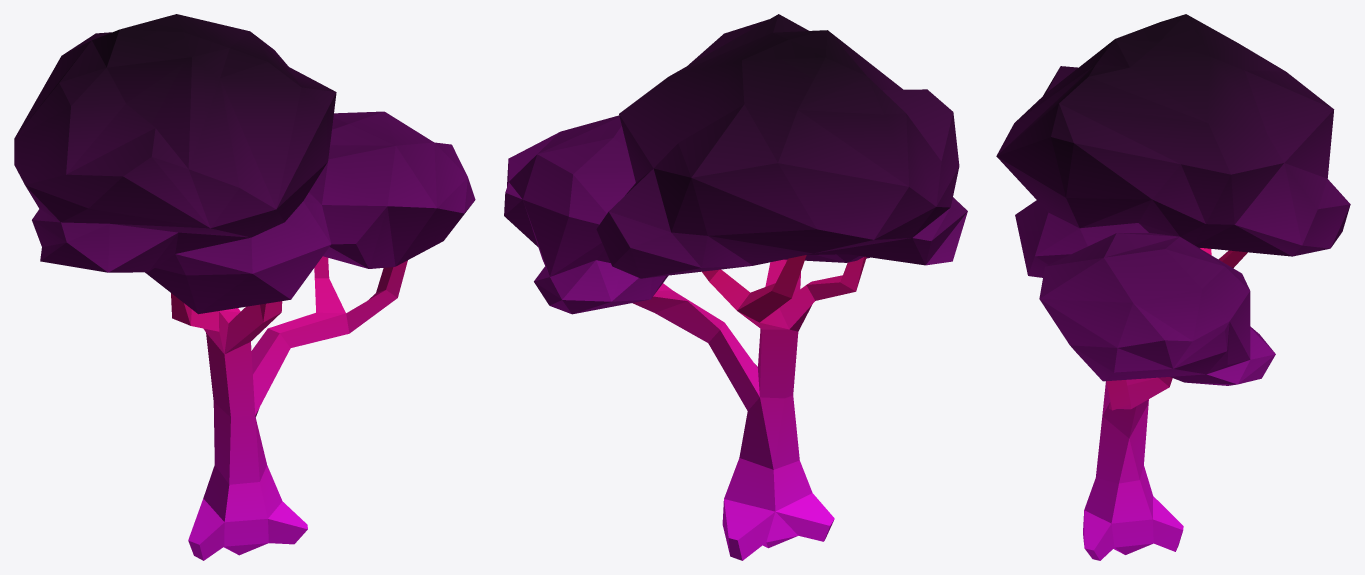
Rendered from SM_Env_Tree_Apricot_01.fbx.
3 views of the same model, side by side, from view 1: azimuth 30°, elevation 25°; view 2: azimuth 150°, elevation 25°; view 3: azimuth 270°, elevation 25° (orthographic). The views are drawn at different scales.
Visible parts, largest first — view 1: SM_Env_Tree_Apricot_01; view 2: SM_Env_Tree_Apricot_01; view 3: SM_Env_Tree_Apricot_01.
Part boxes in pixels (x1,y1,x2,y2): SM_Env_Tree_Apricot_01: (14,14,475,560); SM_Env_Tree_Apricot_01: (504,14,967,560); SM_Env_Tree_Apricot_01: (996,14,1350,560).
Bounding box in the file's own units: 411 × 487 × 312.
